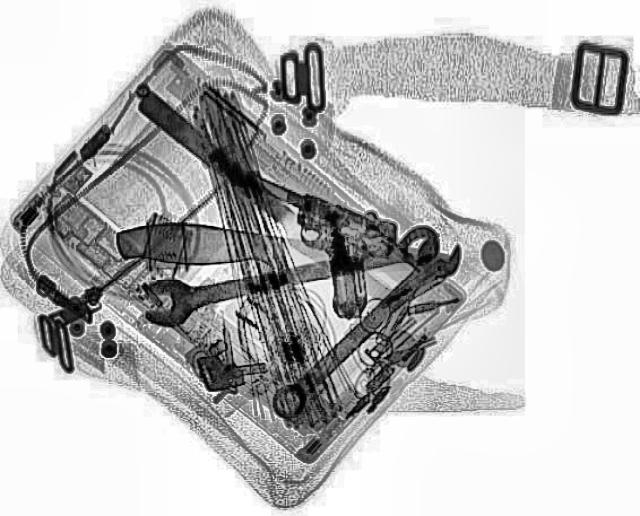Gun: (188, 172, 414, 320)
Knife: (129, 87, 411, 318), (115, 220, 451, 275)
Wrench: (252, 230, 476, 426), (131, 219, 447, 329)
